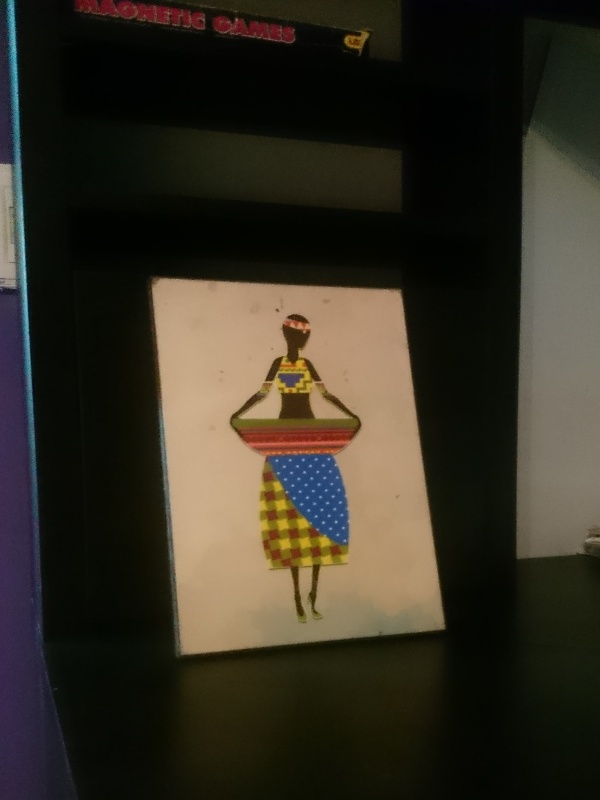my image: (150, 282, 446, 657)
